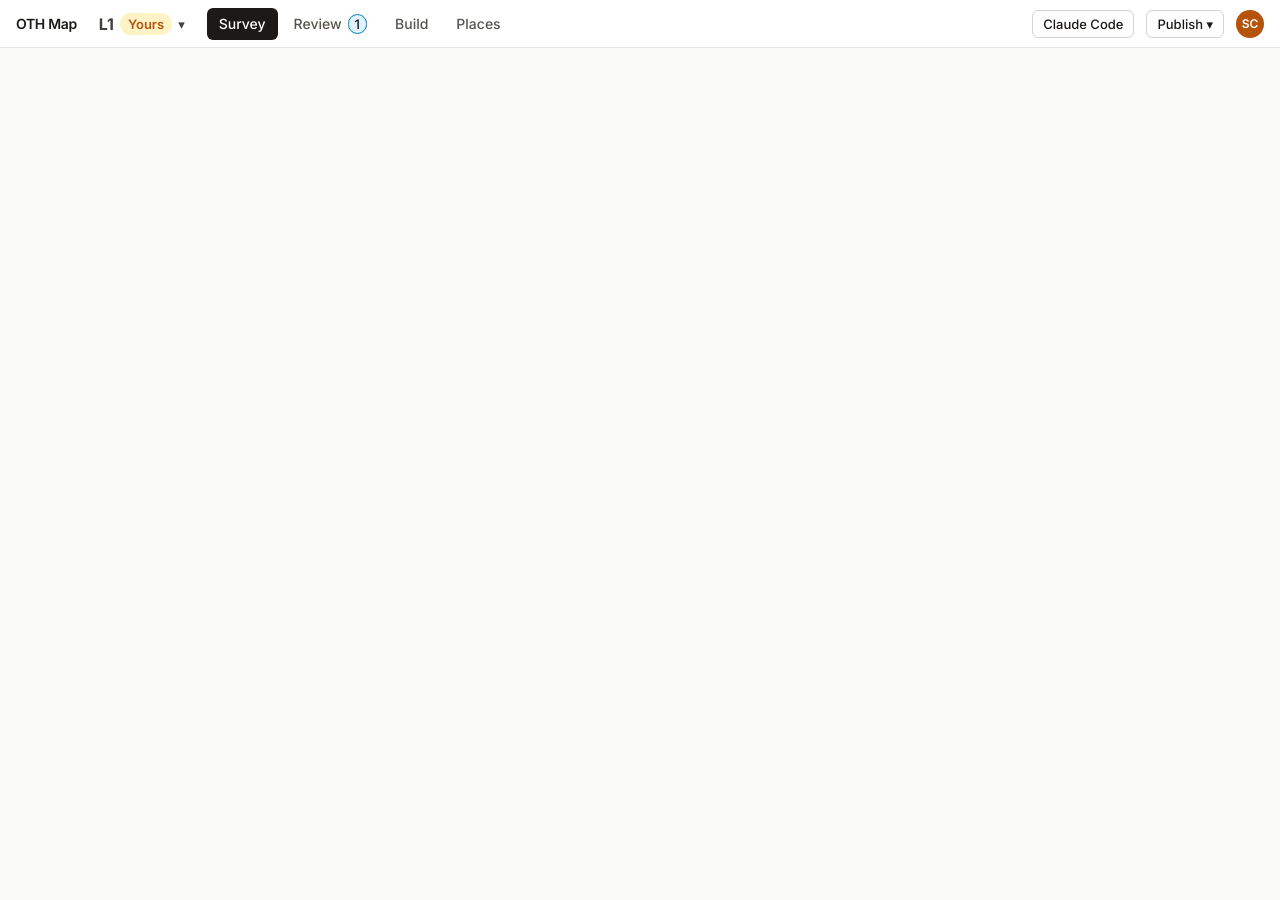
Scenario: Header › marks your own floor in the switcher
Click the button with aria-label "Floor L1" at (142, 24), box x1=89 y1=10 x2=195 y2=38
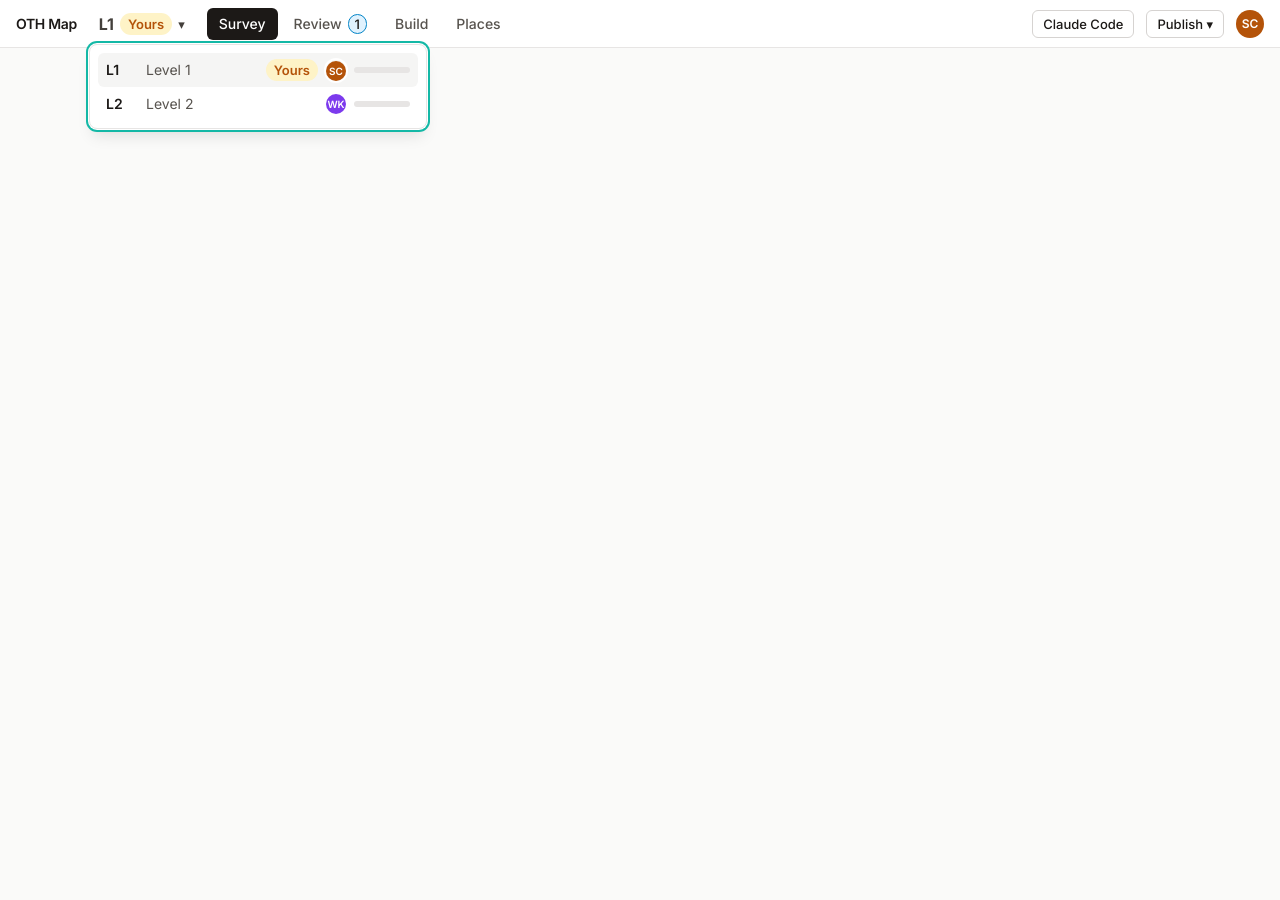
Check: the link "L1 Level 1 Yours SC" is shown, box x1=98 y1=53 x2=418 y2=87
